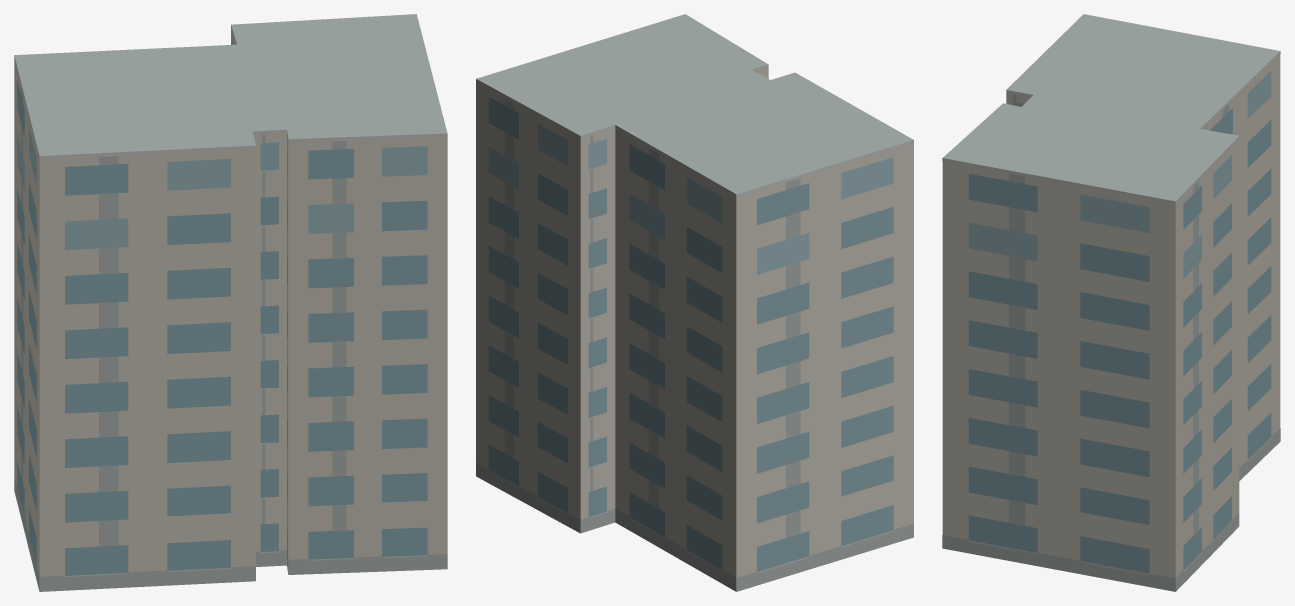
Rendered from survey-upis-32568421.glb.
3 views of the same model, side by side, from view 1: azimuth 30°, elevation 25°; view 2: azimuth 150°, elevation 25°; view 3: azimuth 270°, elevation 25° (orthographic). The views are drawn at different scales.
Visible parts, largest first — view 1: survey-upis-32568421.tmp; view 2: survey-upis-32568421.tmp; view 3: survey-upis-32568421.tmp.
Part boxes in pixels (box(x1,y1,x2,y2)): survey-upis-32568421.tmp: box(14, 14, 447, 591); survey-upis-32568421.tmp: box(476, 14, 913, 591); survey-upis-32568421.tmp: box(942, 14, 1280, 591).
Bounding box in the file's own units: 29.63 × 28.78 × 22.58.
